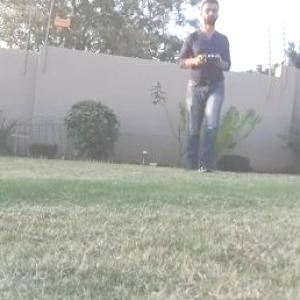follow: (172, 0, 237, 178)
